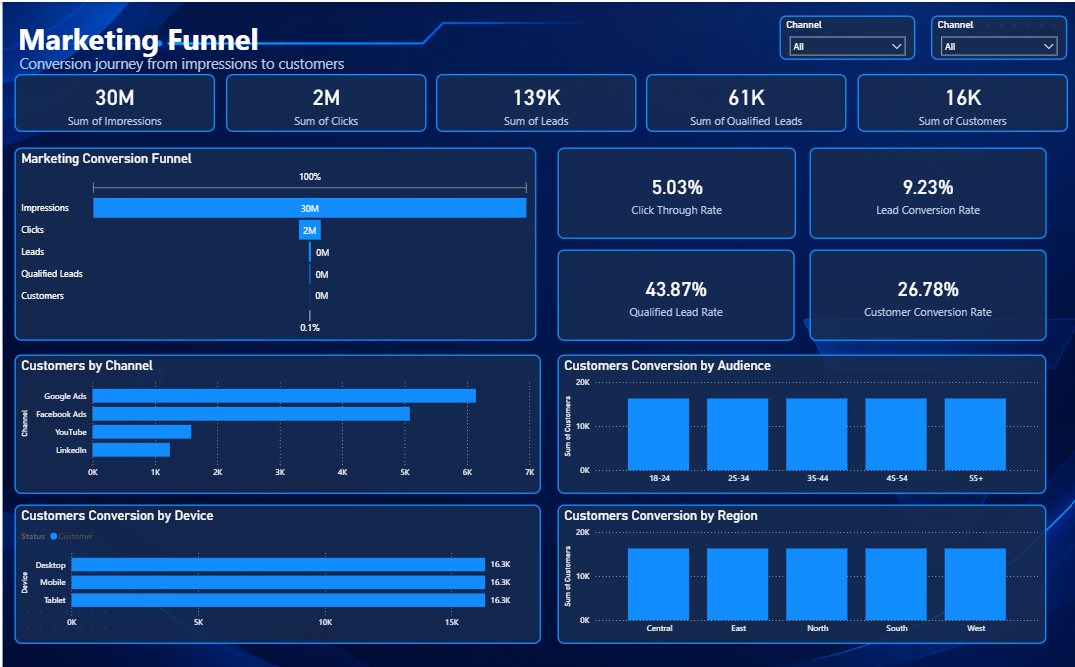

The page's visual inventory and layout, read from the dashboard file:
{"tool":"powerbi","page":{"name":"Marketing Funnel","canvas":[1600,1000],"ordinal":3},"visuals":[{"type":"textbox","box":[25,20,422.8,85],"z":0},{"type":"textbox","box":[26,70,533.9,52],"z":1000},{"type":"card","fields":{"Values":["Sum(campaign_performance.Impressions)"]},"box":[25,105,295,85],"z":2000},{"type":"card","fields":{"Values":["Sum(campaign_performance.Clicks)"]},"box":[335,105,295,85],"z":3000},{"type":"card","fields":{"Values":["Sum(campaign_performance.Leads)"]},"box":[645,105,295,85],"z":4000},{"type":"card","fields":{"Values":["Sum(campaign_performance.Qualified_Leads)"]},"box":[955,105,295,85],"z":5000},{"type":"card","fields":{"Values":["Sum(campaign_performance.Customers)"]},"box":[1265,105,310,85],"z":6000},{"type":"funnel","title":"Marketing Conversion Funnel","fields":{"Category":["Funnel.Stage"],"Y":["Sum(Funnel.Value)"]},"box":[24.3,214.3,768.8,285],"z":7000},{"type":"card","fields":{"Values":["campaign_performance.Customer Conversion Rate"]},"box":[1195,365,349.1,134.8],"z":8000},{"type":"card","fields":{"Values":["campaign_performance.Qualified Lead Rate"]},"box":[825,365,349.1,134.8],"z":9000},{"type":"card","fields":{"Values":["campaign_performance.Lead Conversion Rate"]},"box":[1195,214.3,349.1,134.8],"z":10000},{"type":"card","fields":{"Values":["campaign_performance.Click Through Rate"]},"box":[825,214.3,351.3,134.8],"z":11000},{"type":"clusteredBarChart","title":"Customers Conversion by Device","fields":{"Y":["Sum(campaign_performance.Customers)"],"Category":["leads_customers.Device"],"Series":["leads_customers.Status"]},"box":[24.3,740.1,775.4,205.5],"z":12000},{"type":"clusteredBarChart","title":"Customers by Channel","fields":{"Category":["campaign_performance.Channel"],"Y":["Sum(campaign_performance.Customers)"]},"box":[25,520,775.4,205],"z":13000},{"type":"slicer","title":"Channel","fields":{"Values":["campaign_performance.Channel"]},"box":[1150,20,200,65],"z":14000},{"type":"slicer","title":"Channel","fields":{"Values":["campaign_performance.Campaign_Type"]},"box":[1374.8,18.9,200.8,65],"z":15000},{"type":"clusteredColumnChart","title":"Customers Conversion by Audience","fields":{"Category":["leads_customers.Age_Group"],"Y":["Sum(campaign_performance.Customers)"]},"box":[824,519.2,720.2,205.5],"z":16000},{"type":"clusteredColumnChart","title":"Customers Conversion by Region","fields":{"Y":["Sum(campaign_performance.Customers)"],"Category":["leads_customers.Region"]},"box":[824,740.1,720.2,205.5],"z":17000}]}

Visuals, with their boxes in screenshot pixels (x1, y1, x2, y2), scaled from the page's 1600x1000 canvas onto the 1075x667 screenshot:
textbox: (17, 13, 301, 70)
textbox: (17, 47, 376, 81)
card - Sum(campaign_performance.Impressions): (17, 70, 215, 127)
card - Sum(campaign_performance.Clicks): (225, 70, 423, 127)
card - Sum(campaign_performance.Leads): (433, 70, 632, 127)
card - Sum(campaign_performance.Qualified_Leads): (642, 70, 840, 127)
card - Sum(campaign_performance.Customers): (850, 70, 1058, 127)
"Marketing Conversion Funnel" funnel: (16, 143, 533, 333)
card - campaign_performance.Customer Conversion Rate: (803, 243, 1037, 333)
card - campaign_performance.Qualified Lead Rate: (554, 243, 789, 333)
card - campaign_performance.Lead Conversion Rate: (803, 143, 1037, 233)
card - campaign_performance.Click Through Rate: (554, 143, 790, 233)
"Customers Conversion by Device" clusteredBarChart: (16, 494, 537, 631)
"Customers by Channel" clusteredBarChart: (17, 347, 538, 484)
"Channel" slicer: (773, 13, 907, 57)
"Channel" slicer: (924, 13, 1059, 56)
"Customers Conversion by Audience" clusteredColumnChart: (554, 346, 1038, 483)
"Customers Conversion by Region" clusteredColumnChart: (554, 494, 1038, 631)
